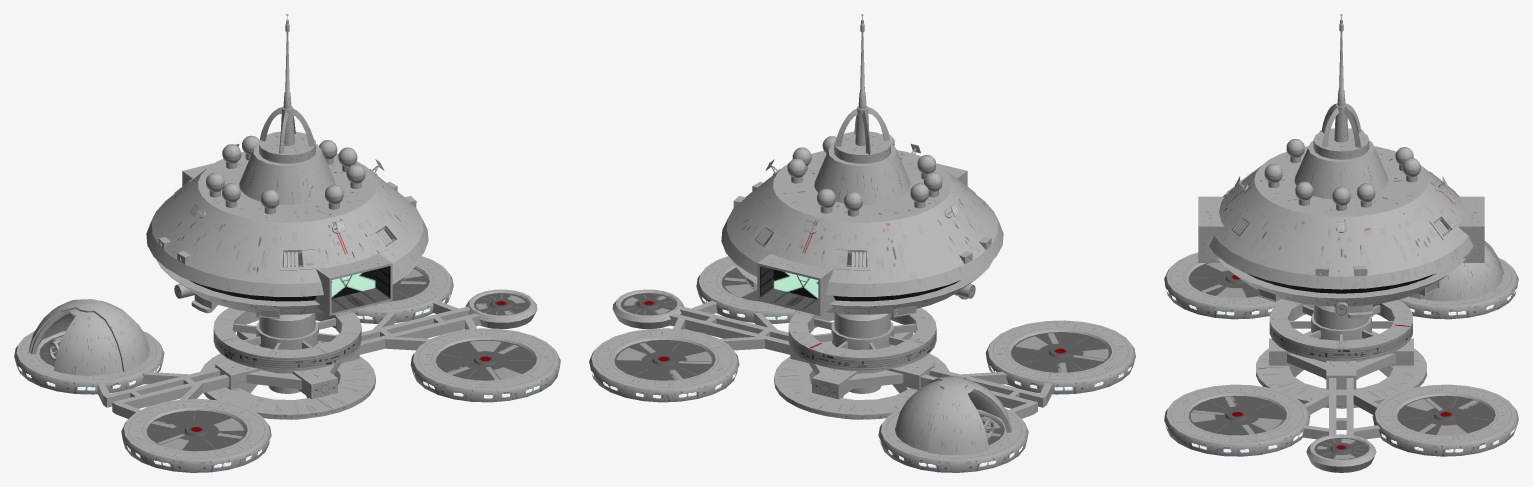
Rendered from star_trek_-_starbase_375.glb.
3 renders of one model, left to right at view 1: azimuth 30°, elevation 25°; view 2: azimuth 150°, elevation 25°; view 3: azimuth 270°, elevation 25°, orthographic. The views are drawn at different scales.
Visible parts, largest first — view 1: Object01__24___Default_0, Cylinder015, Cylinder12, Sphere01, Cylinder01, Cylinder016, Sphere02, Cylinder019, Line03, Object005__24___Default_0; view 2: Object01__24___Default_0, Cylinder016, Cylinder12, Cylinder01, Sphere02, Cylinder015, Sphere01, Cylinder019, Line03, Object005__24___Default_0; view 3: Object01__24___Default_0, Cylinder015, Cylinder016, Cylinder12, Cylinder01, Sphere01, Cylinder019.
Part boxes in pixels (box(x1,y1,x2,y2)): Object01__24___Default_0: box(97, 14, 481, 419); Cylinder015: box(410, 328, 560, 402); Cylinder12: box(121, 399, 271, 472); Sphere01: box(31, 300, 127, 375); Cylinder01: box(14, 331, 164, 394); Cylinder016: box(351, 256, 453, 323); Sphere02: box(29, 299, 149, 371); Cylinder019: box(465, 289, 537, 328); Line03: box(331, 266, 390, 313); Object005__24___Default_0: box(331, 269, 375, 298); Object01__24___Default_0: box(668, 14, 1052, 419); Cylinder016: box(589, 328, 739, 402); Cylinder12: box(985, 320, 1135, 394); Cylinder01: box(878, 408, 1028, 472); Sphere02: box(928, 376, 987, 455); Cylinder015: box(696, 256, 798, 323); Sphere01: box(895, 379, 1012, 451); Cylinder019: box(612, 289, 684, 328); Line03: box(759, 266, 818, 312); Object005__24___Default_0: box(773, 269, 818, 299); Object01__24___Default_0: box(1198, 14, 1484, 439); Cylinder015: box(1164, 384, 1310, 456); Cylinder016: box(1372, 384, 1518, 456); Cylinder12: box(1164, 252, 1283, 319); Cylinder01: box(1399, 257, 1518, 319); Sphere01: box(1421, 245, 1502, 301); Cylinder019: box(1306, 434, 1376, 472).
Size of the model in its own units: 1564 by 1240 by 1086.
Materials: 1 (1 with a texture image).
